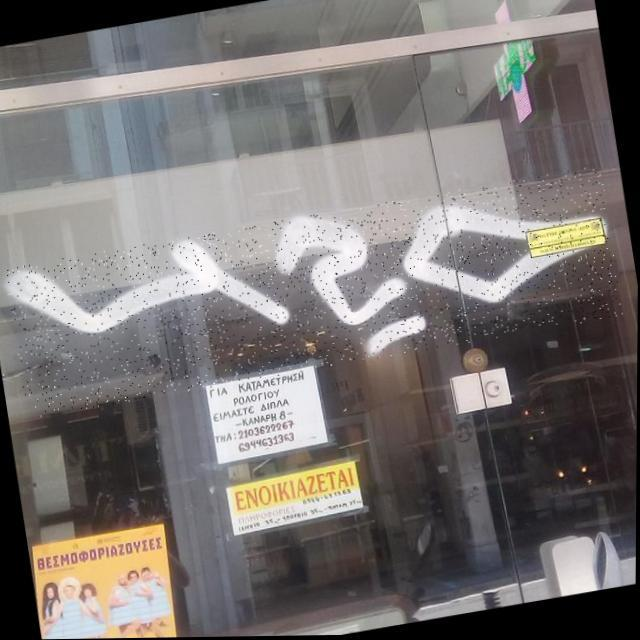-: (5, 168, 625, 420)
